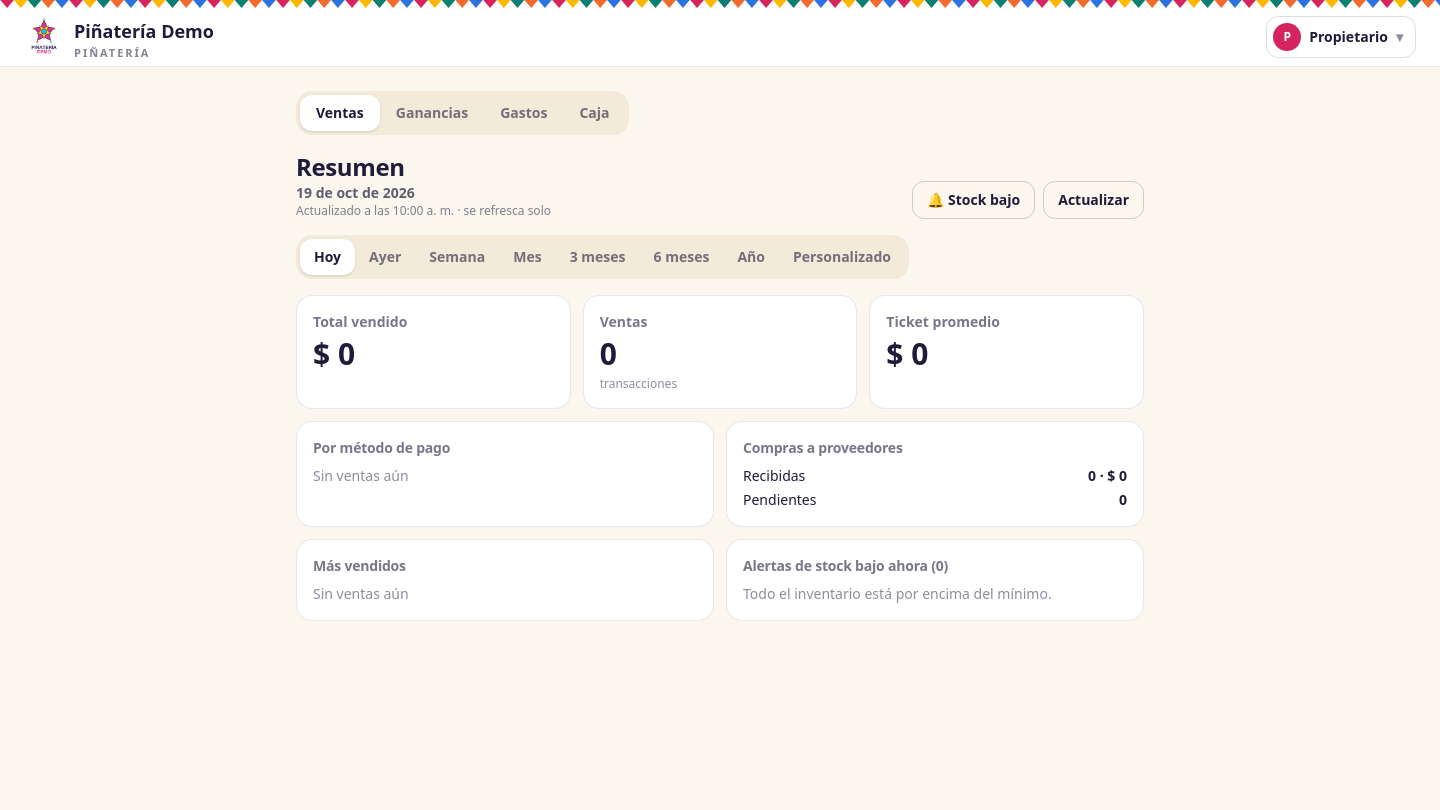
Test: DashboardPage del propietario › Gastos es de solo lectura: se puede exportar pero no registrar
Click the tab "Gastos": (524, 113) [484,95,563,131]
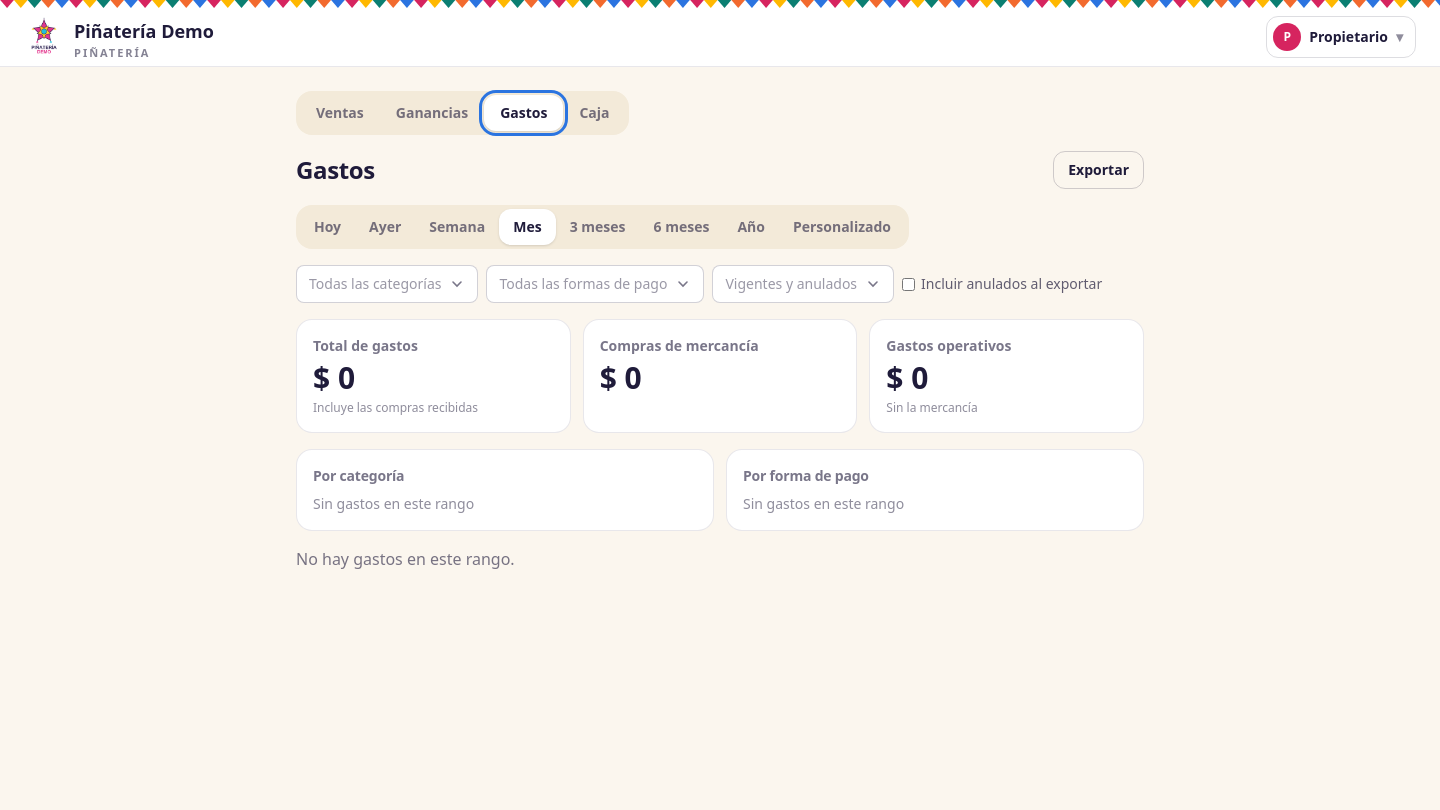
Check: the text "No hay gastos en este rango." is shown, box [296,548,515,570]
Check: the button "Exportar" is shown, box [1053,151,1144,189]
